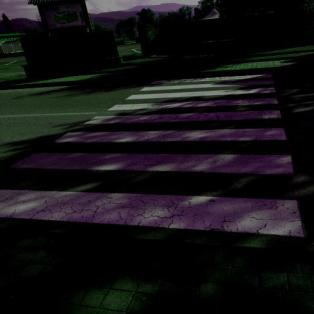Paso de Cebra: (47, 108, 296, 146), (125, 78, 279, 102)
